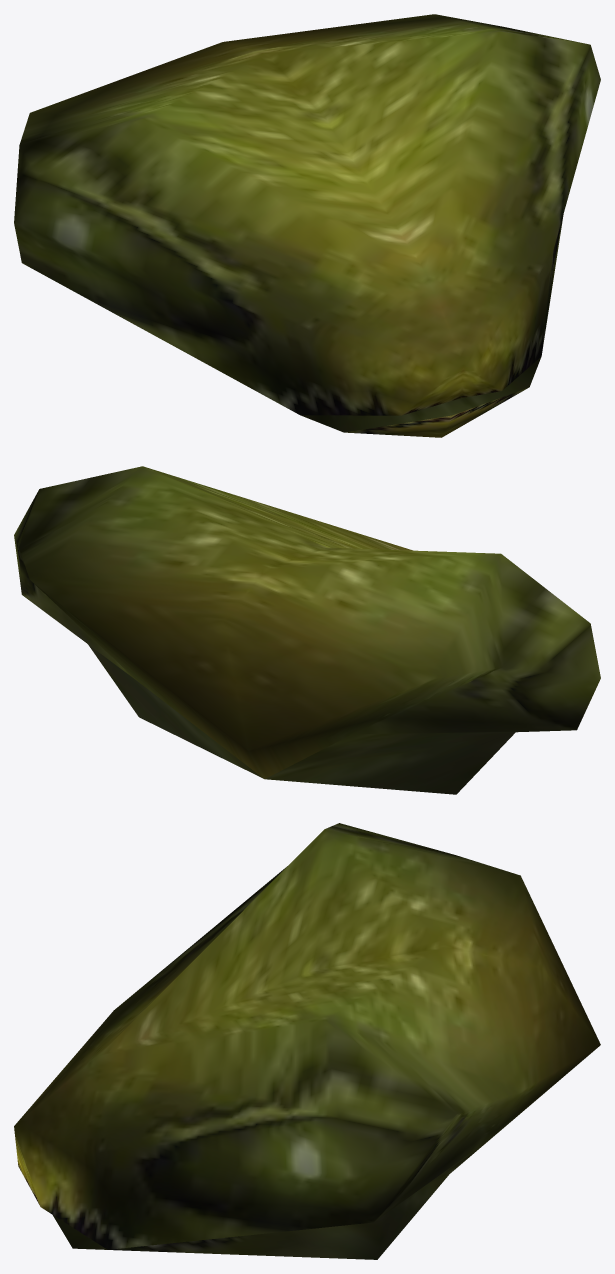
File: ITAT_BLATTCRAWLER_01.glb
The picture shows the model from 3 angles, top to bottom: view 1: azimuth 30°, elevation 25°; view 2: azimuth 150°, elevation 25°; view 3: azimuth 270°, elevation 25°; orthographic projection. The views are drawn at different scales.
Parts seen in each view (by area): view 1: Mesh; view 2: Mesh; view 3: Mesh.
Boxes of the visible parts, x1,y1,x2,y2 form: Mesh: (14, 14, 600, 437); Mesh: (14, 466, 600, 794); Mesh: (14, 823, 600, 1259).
Size of the model in its own units: 0.5532 by 0.2473 by 0.4376.
Materials: 1 (1 with a texture image).
